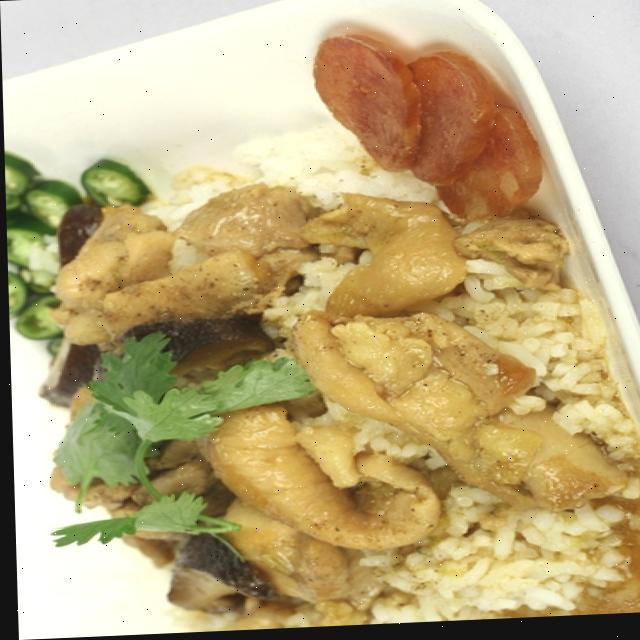米饭主食: (20, 120, 626, 639)
